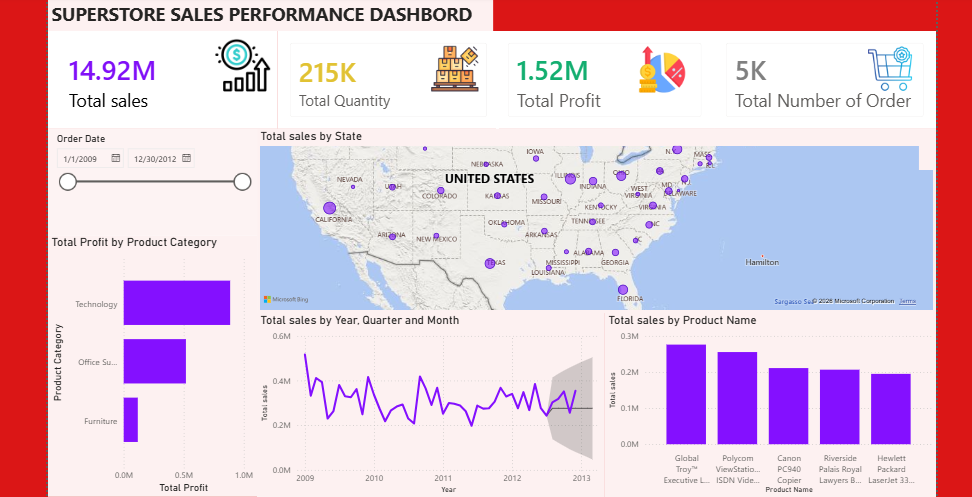

The dashboard page shown, as its layout file describes it:
{"tool":"powerbi","page":{"name":"Page 1","canvas":[1280,720],"ordinal":0},"visuals":[{"type":"cardVisual","fields":{"Data":["Orders.Total sales"]},"box":[0,49,331.2,141.1],"z":0,"group":"g3"},{"type":"slicer","fields":{"Values":["Orders.Order Date"]},"box":[0,190.1,301,152.6],"z":1000},{"type":"lineChart","fields":{"Category":["Orders.Order Date.Variation.Date Hierarchy.Year","Orders.Order Date.Variation.Date Hierarchy.Quarter","Orders.Order Date.Variation.Date Hierarchy.Month"],"Y":["Orders.Total sales"]},"box":[301,455,501.1,265],"z":2000},{"type":"clusteredBarChart","fields":{"Y":["Orders.Total Profit"],"Category":["Orders.Product Category"]},"box":[0,342.7,301,377.3],"z":3000},{"type":"columnChart","fields":{"Category":["Orders.Product Name"],"Y":["Orders.Total sales"]},"box":[802.1,455,476.6,265],"z":4000},{"type":"cardVisual","fields":{"Data":["Orders.Total Quantity"]},"box":[331.2,49,318.2,141.1],"z":5000,"group":"g1"},{"type":"cardVisual","fields":{"Data":["Orders.Total Profit"]},"box":[645.1,49,313.9,141.1],"z":5000,"group":"g4"},{"type":"map","fields":{"Size":["Orders.Total sales"],"Category":["Orders.State"]},"box":[301,190.1,979.2,265],"z":6000},{"type":"textbox","box":[0,0,640.8,49],"z":7000},{"type":"cardVisual","fields":{"Data":["Orders.Total Number of Order"]},"box":[959,49,319.7,141.1],"z":7000,"group":"g2"},{"type":"image","box":[229,59.1,102.2,79.2],"z":8000,"group":"g3"},{"type":"image","box":[830.9,70.4,106.6,67],"z":9000,"group":"g4"},{"type":"image","box":[532.4,69.5,106.4,67.5],"z":9002,"group":"g1"},{"type":"image","box":[1163.9,69.2,97.4,67.7],"z":9004,"group":"g2"},{"type":"group","id":"g1","title":"Group 2","box":[331.2,49,318.2,141.1],"z":10000},{"type":"group","id":"g2","title":"Group 3","box":[959,49,319.7,141.1],"z":11000},{"type":"group","id":"g3","title":"Group 1","box":[0,49,331.2,141.1],"z":12001},{"type":"group","id":"g4","title":"Group 4","box":[645.1,49,313.9,141.1],"z":12002}]}

Visuals, with their boxes on the page's 1280x720 design canvas (x1, y1, x2, y2). These are canvas units, not pixel positions in the 972x497 screenshot, which may show the page scaled, cropped or inside an application window:
cardVisual - Orders.Total sales: [x1=0, y1=49, x2=331, y2=190]
slicer - Orders.Order Date: [x1=0, y1=190, x2=301, y2=343]
lineChart - Orders.Order Date.Variation.Date Hierarchy.Year x Orders.Order Date.Variation.Date Hierarchy.Quarter: [x1=301, y1=455, x2=802, y2=720]
clusteredBarChart - Orders.Total Profit x Orders.Product Category: [x1=0, y1=343, x2=301, y2=720]
columnChart - Orders.Product Name x Orders.Total sales: [x1=802, y1=455, x2=1279, y2=720]
cardVisual - Orders.Total Quantity: [x1=331, y1=49, x2=649, y2=190]
cardVisual - Orders.Total Profit: [x1=645, y1=49, x2=959, y2=190]
map - Orders.Total sales x Orders.State: [x1=301, y1=190, x2=1280, y2=455]
textbox: [x1=0, y1=0, x2=641, y2=49]
cardVisual - Orders.Total Number of Order: [x1=959, y1=49, x2=1279, y2=190]
image: [x1=229, y1=59, x2=331, y2=138]
image: [x1=831, y1=70, x2=938, y2=137]
image: [x1=532, y1=70, x2=639, y2=137]
image: [x1=1164, y1=69, x2=1261, y2=137]
"Group 2" group: [x1=331, y1=49, x2=649, y2=190]
"Group 3" group: [x1=959, y1=49, x2=1279, y2=190]
"Group 1" group: [x1=0, y1=49, x2=331, y2=190]
"Group 4" group: [x1=645, y1=49, x2=959, y2=190]
